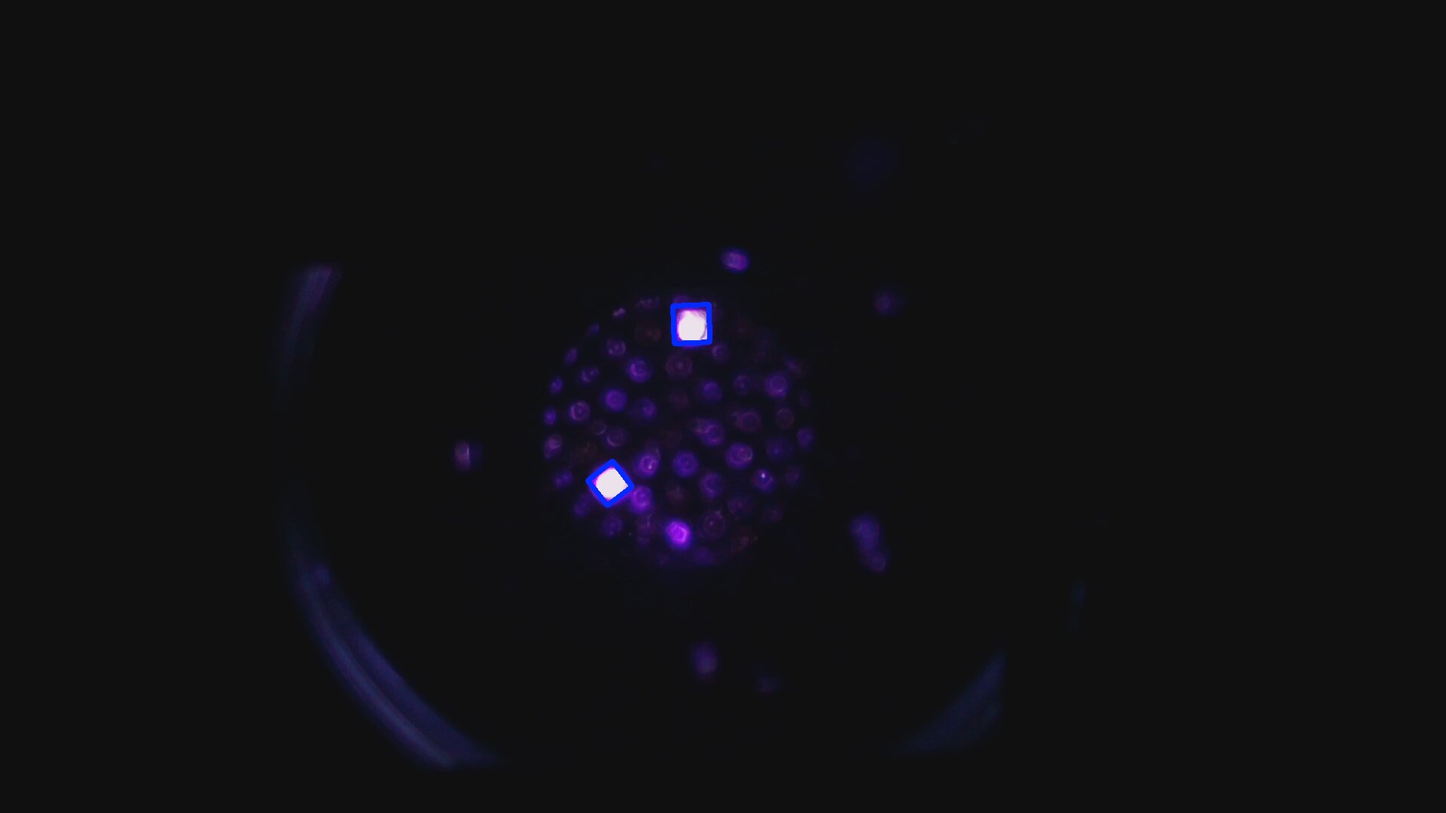plastic: (592, 465, 629, 502), (676, 307, 707, 341)
